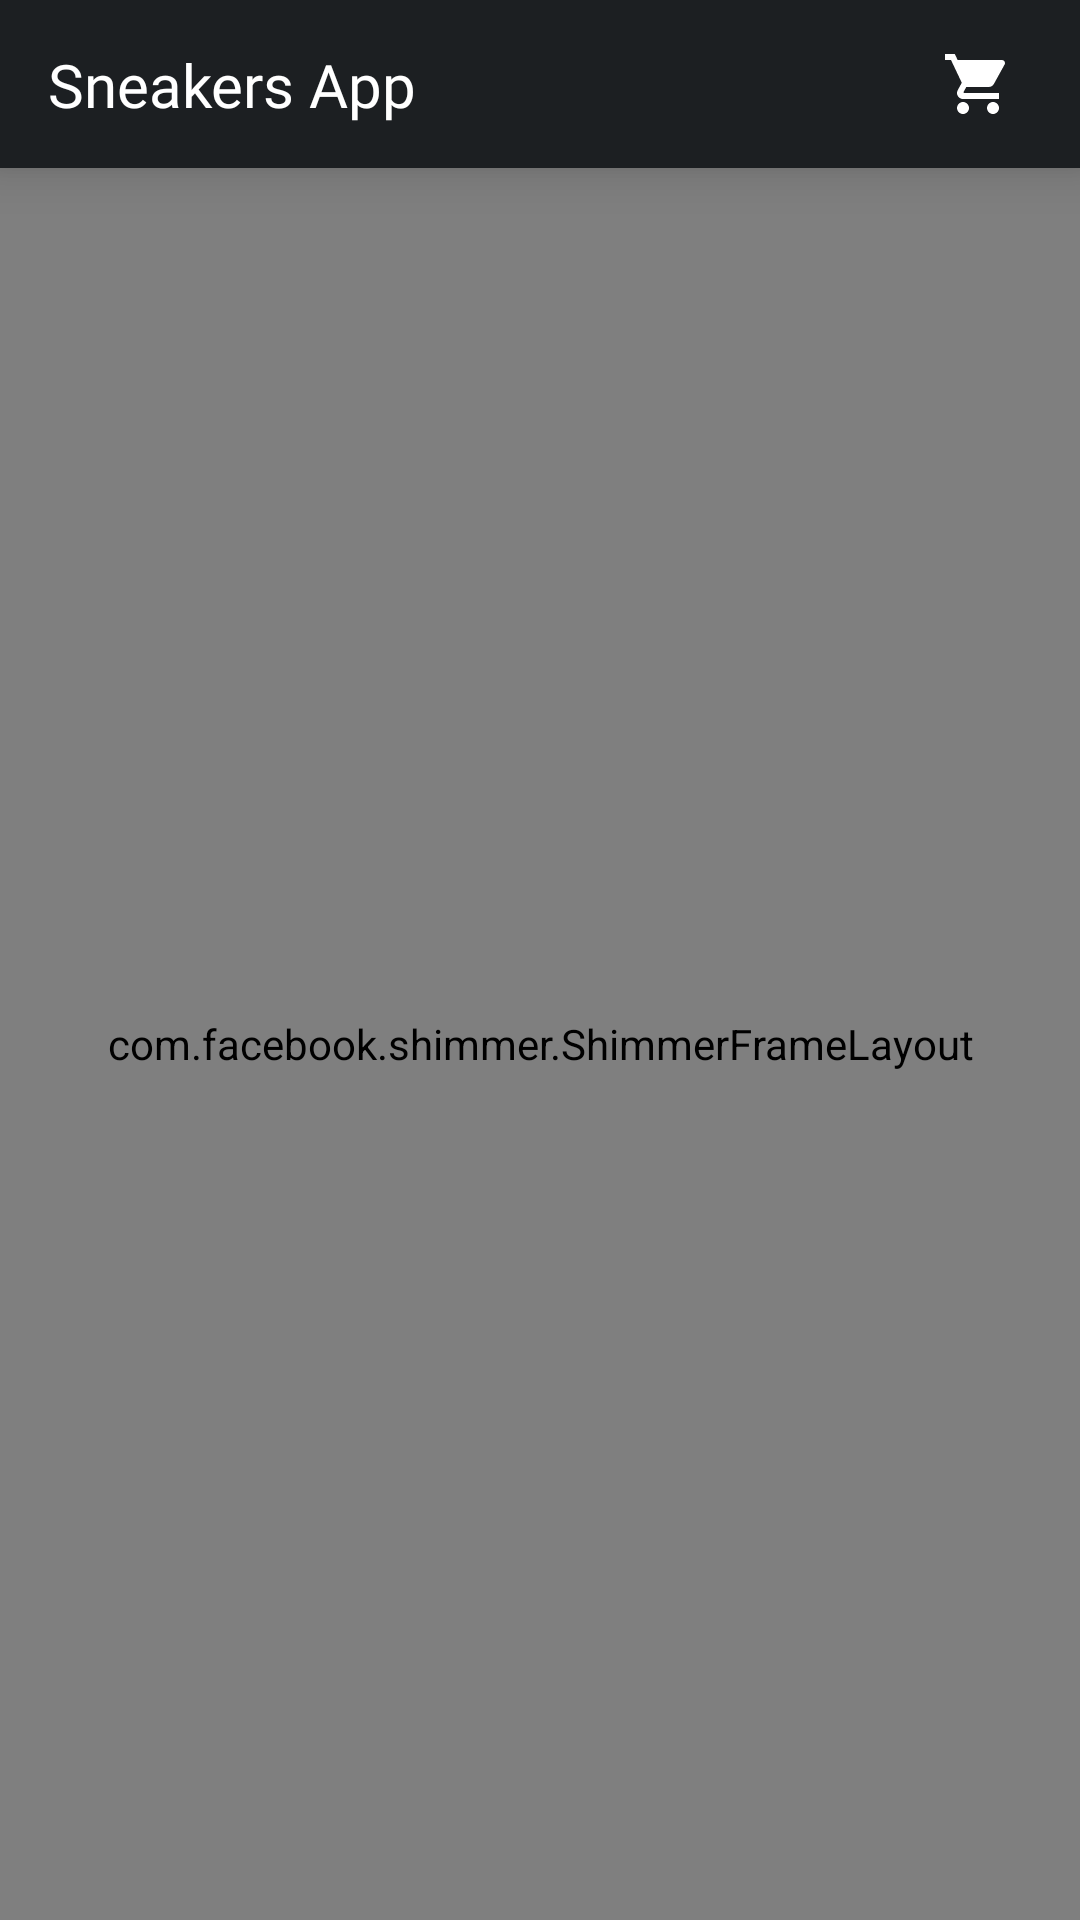

Point at icon controls on the screen. Image size 1080px x 1920px, points as (x,y).
shopping cart: (975,84)
